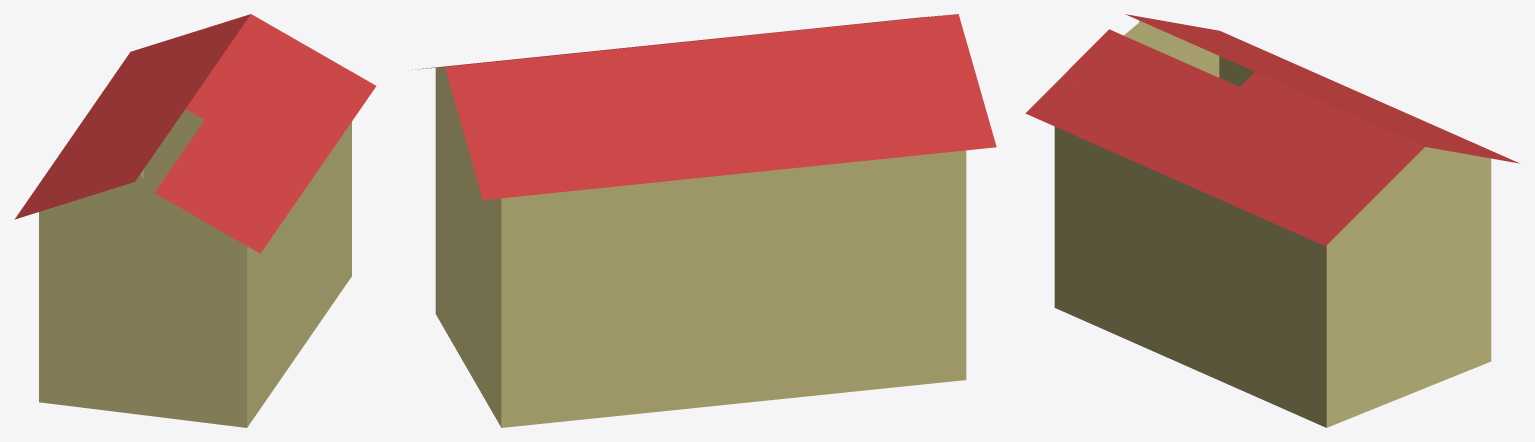
3 renders of one model, left to right at view 1: azimuth 30°, elevation 25°; view 2: azimuth 150°, elevation 25°; view 3: azimuth 270°, elevation 25°, orthographic. The views are drawn at different scales.
Size of the model in its own units: 18.13 by 17.93 by 10.12.
